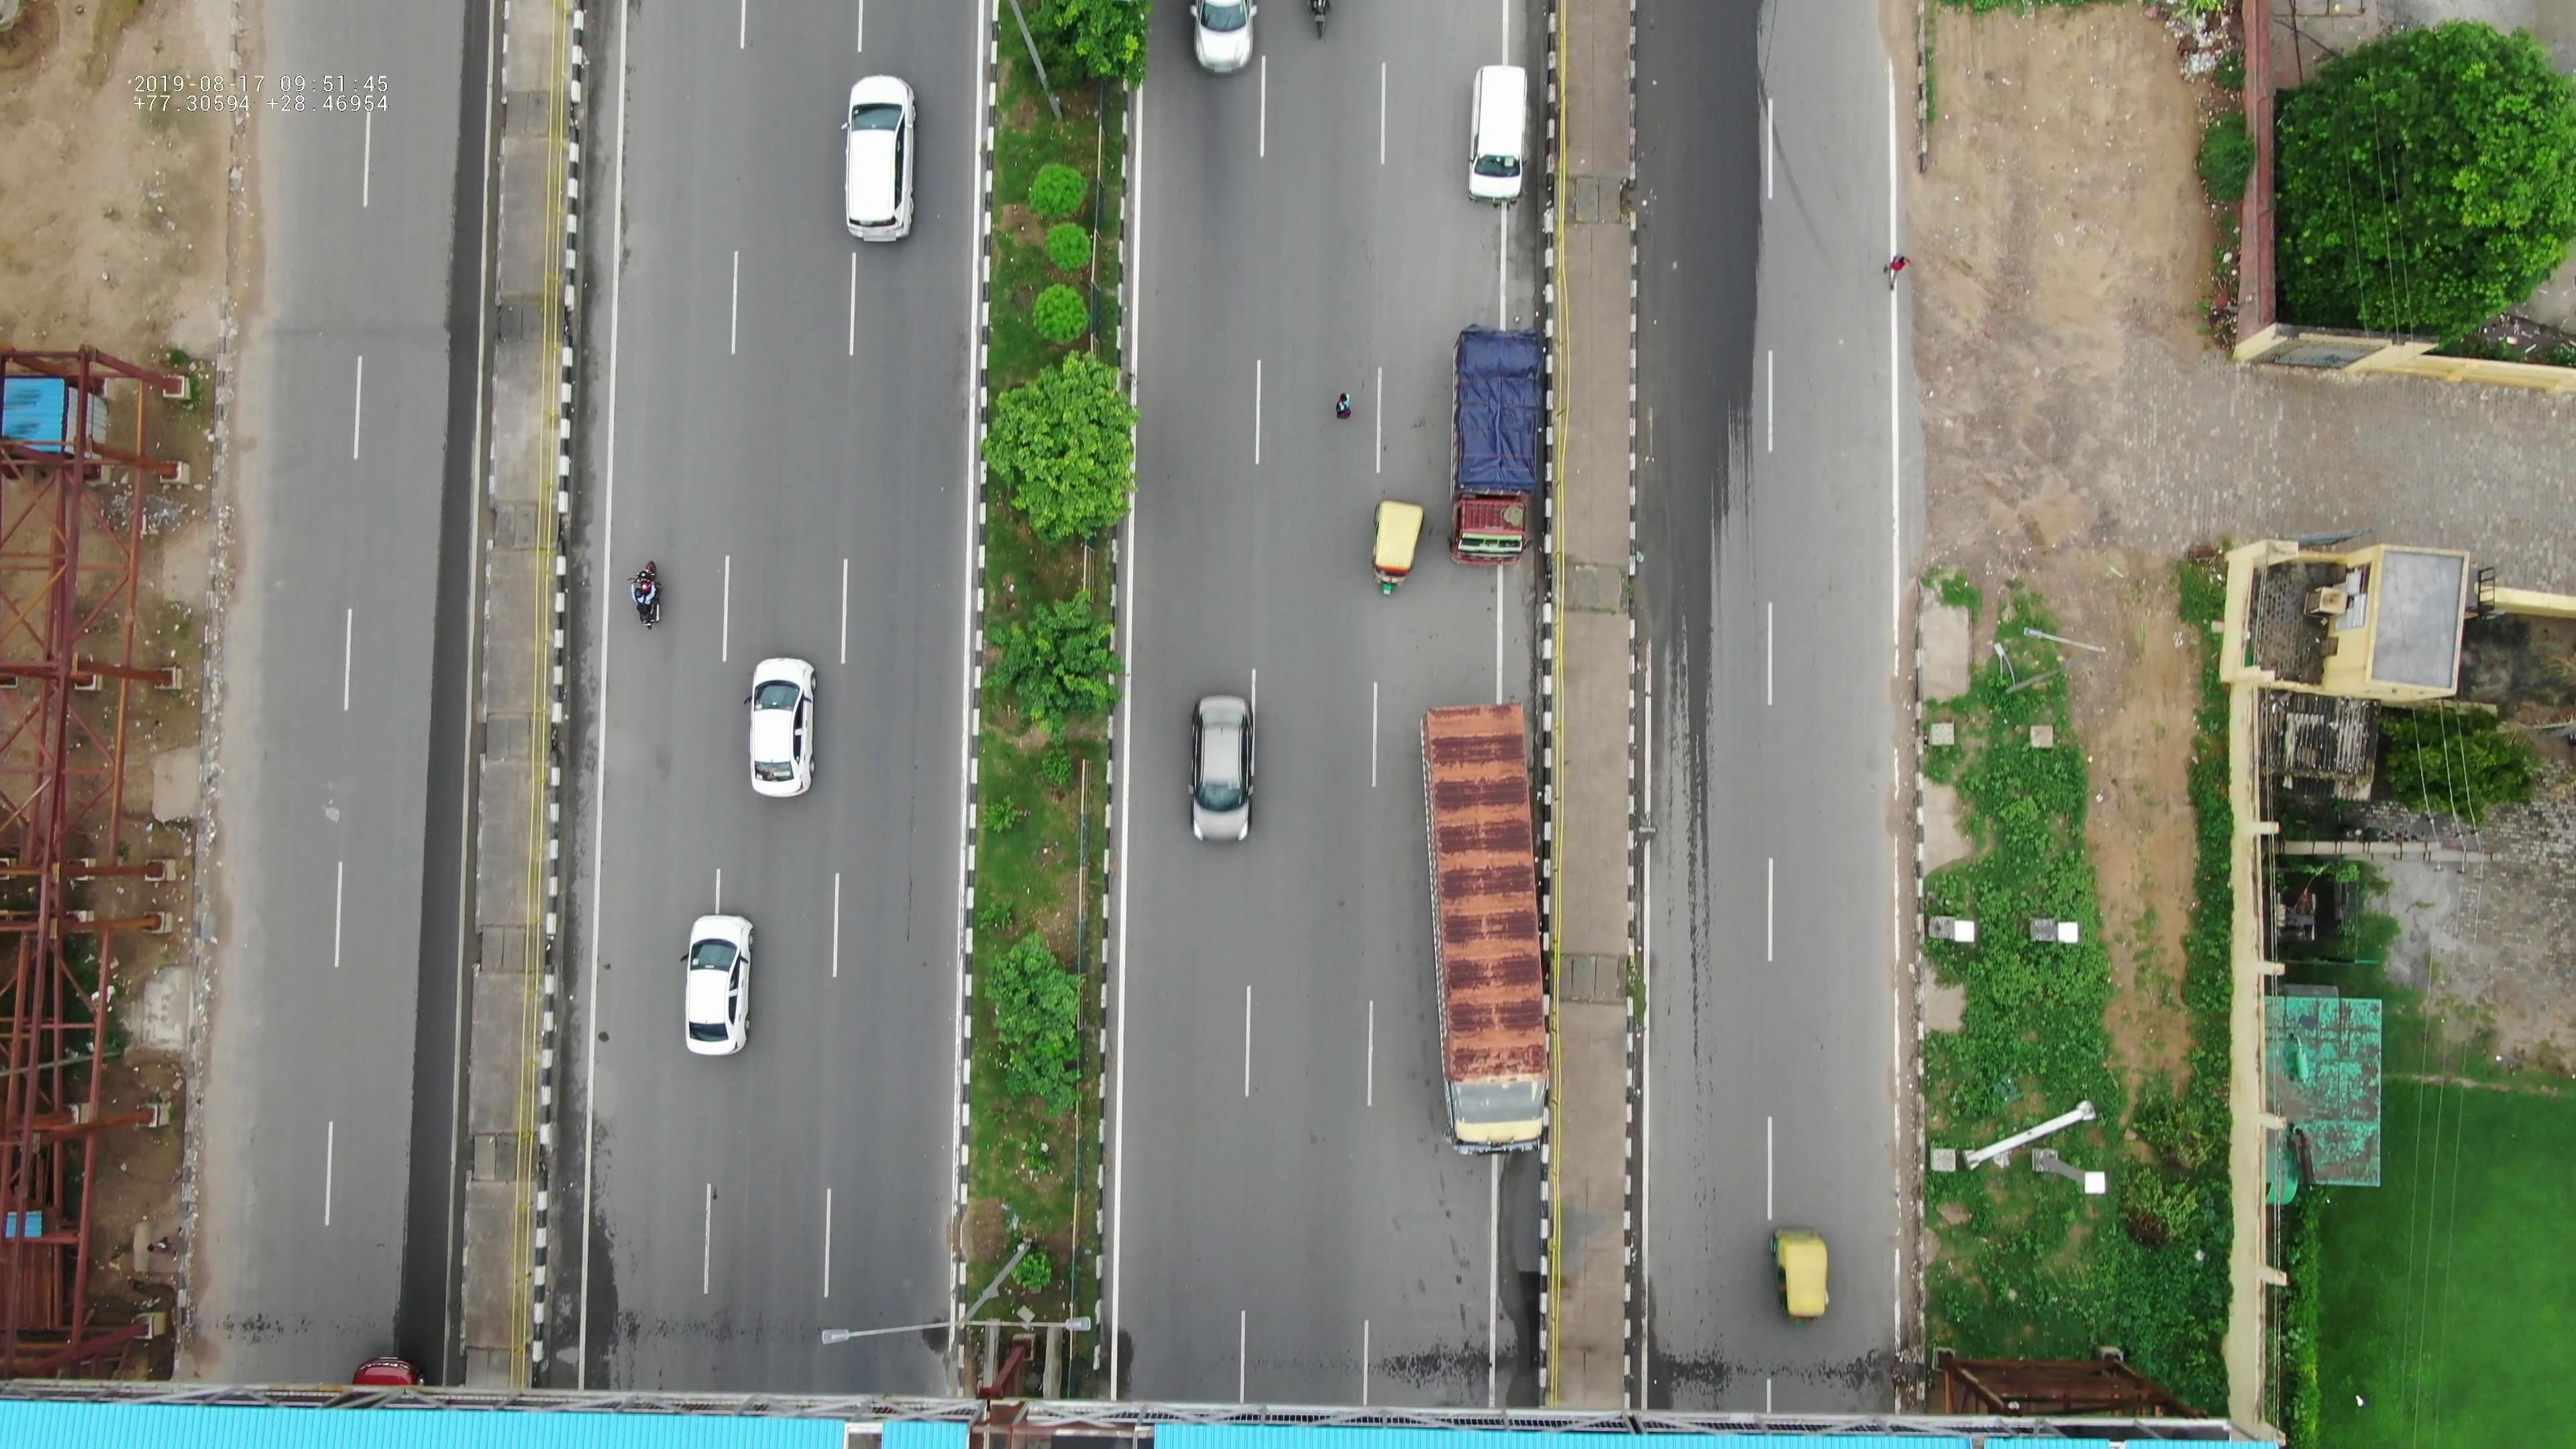Alligator_cracks: (1352, 1306, 1527, 1399)
Ravelling: (1660, 1341, 1893, 1401)
